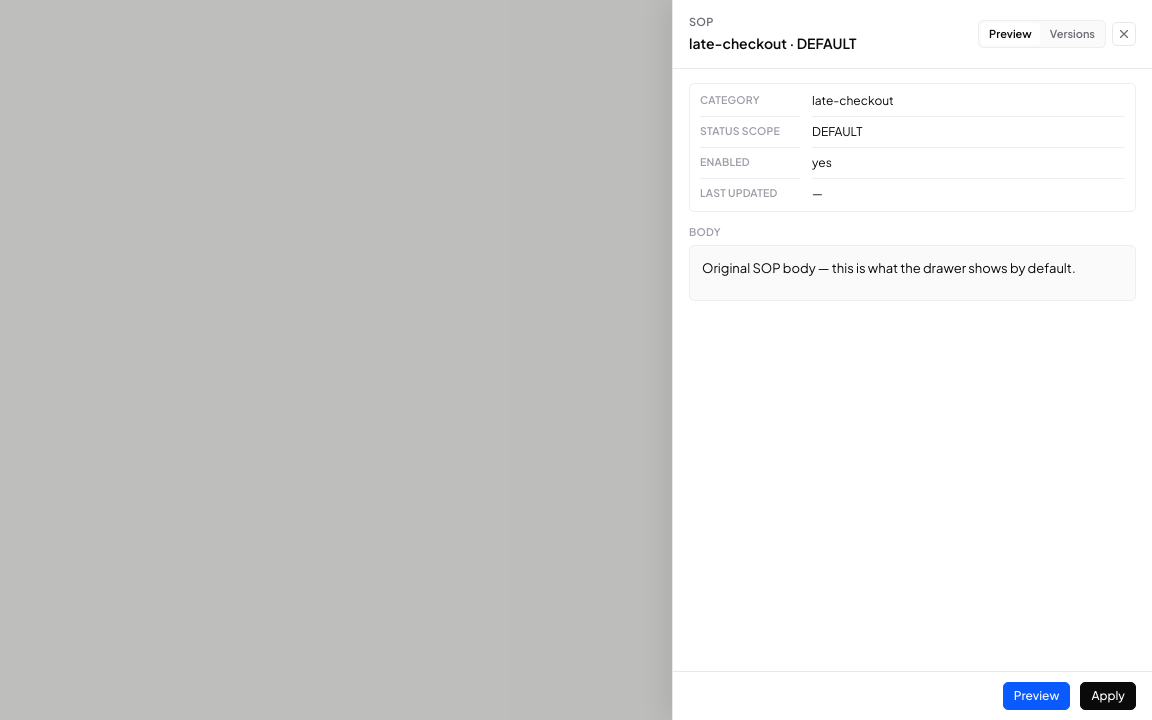
Test case: ArtifactDrawer — D3 Preview/Apply › Clear Preview link dismisses banner + re-enables Preview-first state
The width and height of the screenshot is (1152, 720).
What coordinates should you click on to do the following:
click the button with aria-label "Preview change"
I would click on:
 (1037, 696)
Its box is [1003,682,1070,710].
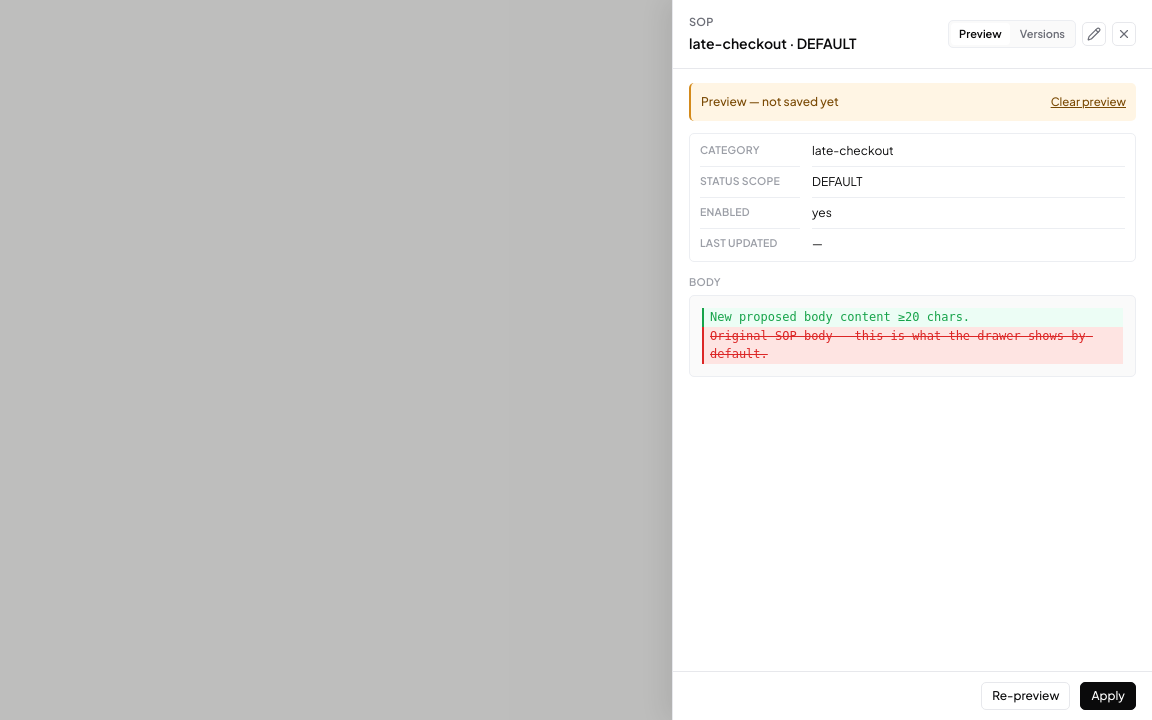
Expected: the message "Preview — not saved yet Clear preview" is shown, [689,82,1136,120]
What coordinates should you click on to do the following:
click the button labelled "Clear preview"
I would click on:
 (1088, 102)
Its box is [1051,93,1126,110].
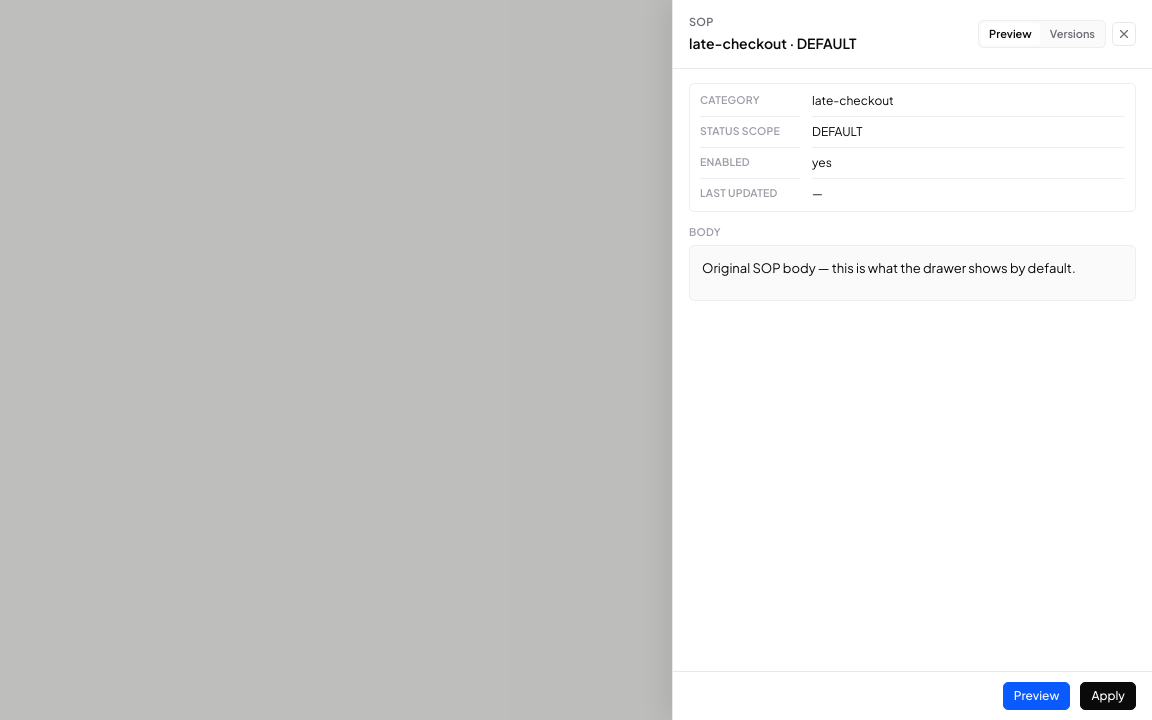
Expected: the button with aria-label "Apply change" is disabled, [1080,682,1136,710]
Expected: the message with test id "preview-banner" is gone
